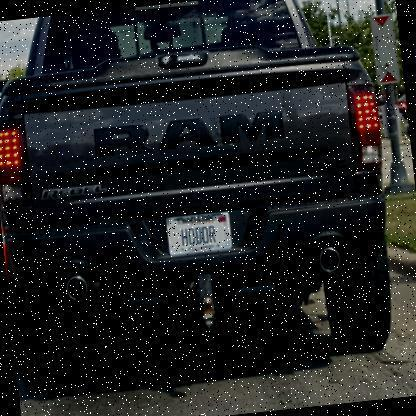License-Plate: (164, 208, 235, 256)
